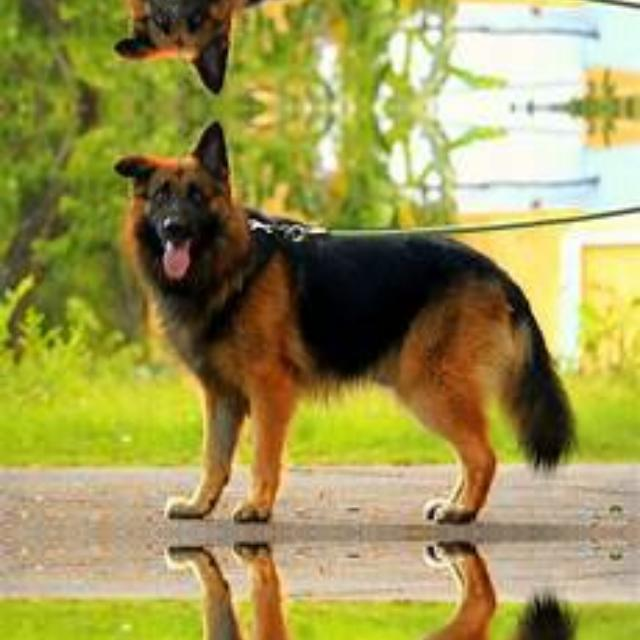dog: (106, 141, 542, 533), (106, 533, 541, 640), (106, 0, 541, 73)
